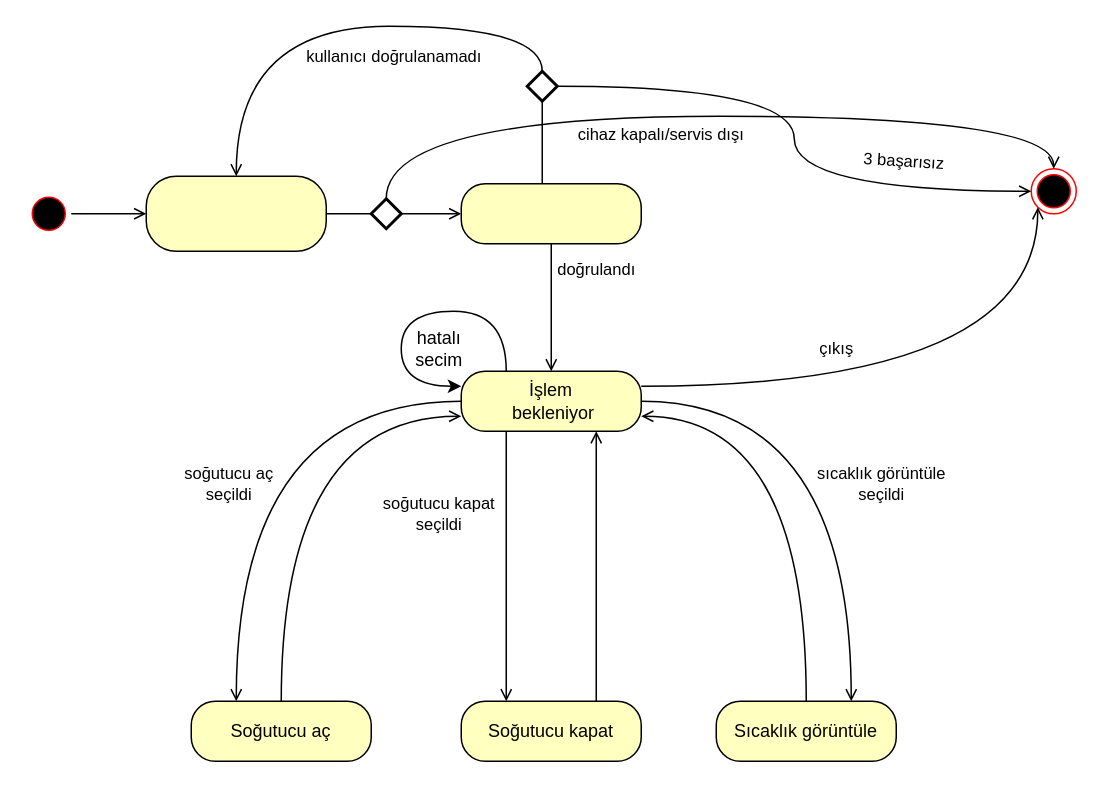
The diagram is 1103 pixels wide and 788 high, and some of its shapes have lost their labels. Each missing label, with the box of its shape:
Ağ arayüzüne kullanıcı bilgileri giriliyor: (145, 175, 326, 251)
Kullanıcı doğrulanıyor: (460, 182, 641, 244)
